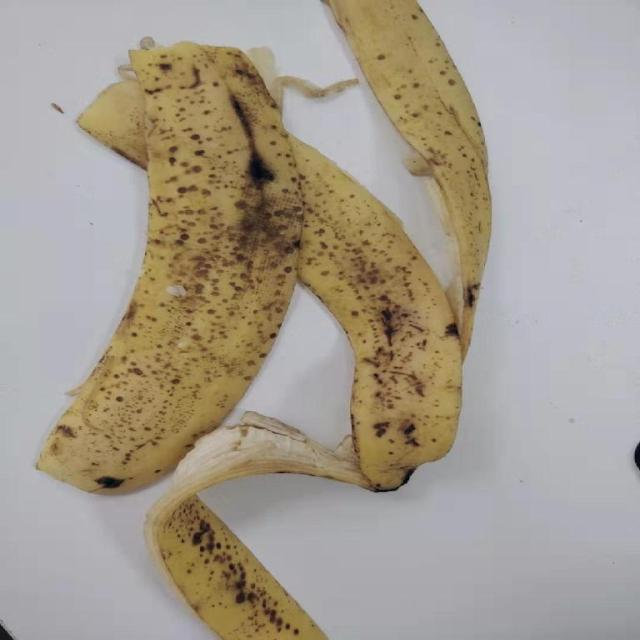Wet Waste: (34, 1, 488, 638)
